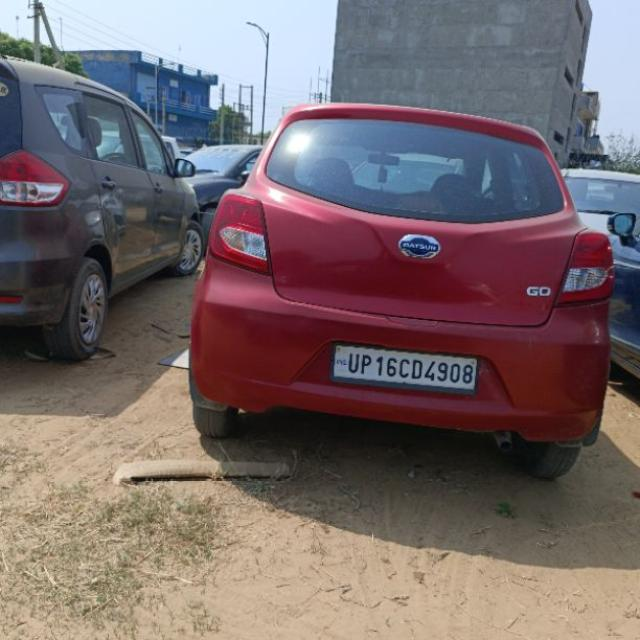license_plate: (328, 340, 479, 395)
